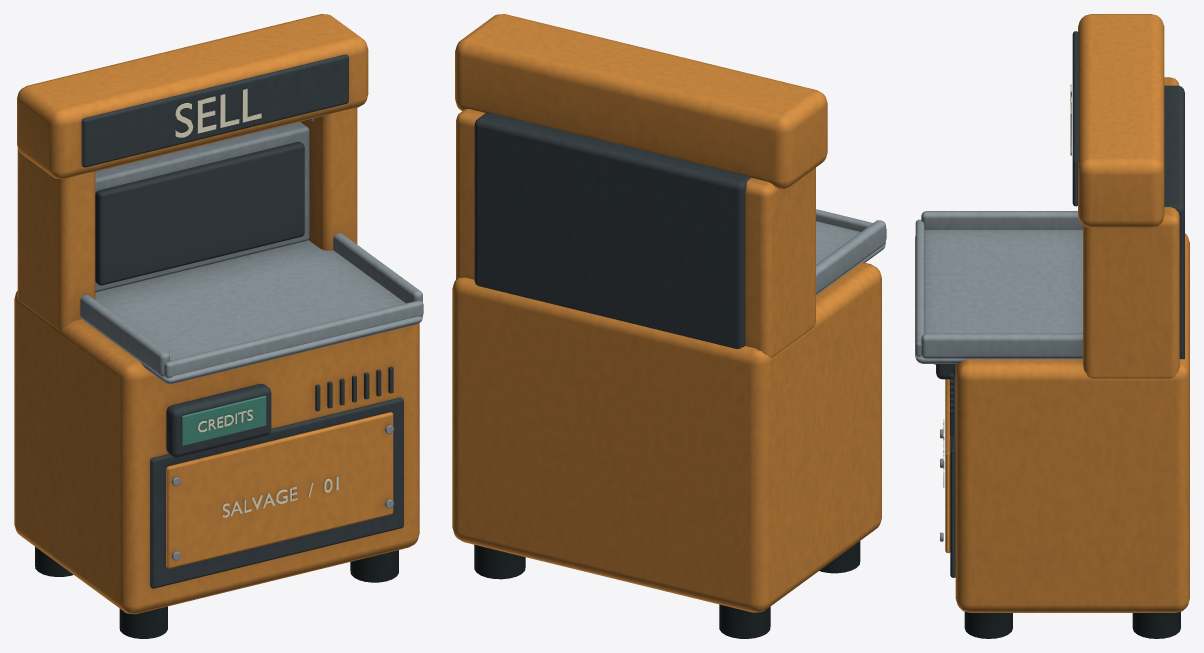
File: SalvageBuyer.fbx
3 renders of one model, left to right at view 1: azimuth 30°, elevation 25°; view 2: azimuth 150°, elevation 25°; view 3: azimuth 270°, elevation 25°, orthographic. The views are drawn at different scales.
Parts seen in each view (by area): view 1: SalvageBuyer_Export, IntakeFlap_Export; view 2: SalvageBuyer_Export; view 3: SalvageBuyer_Export.
Part boxes in pixels (box(x1,y1,x2,y2)): SalvageBuyer_Export: box(14, 14, 423, 638); IntakeFlap_Export: box(95, 142, 304, 285); SalvageBuyer_Export: box(452, 14, 886, 638); SalvageBuyer_Export: box(915, 14, 1189, 638).
Bounding box in the file's own units: 143 × 211 × 108.
Materials: 1 (1 with a texture image).
